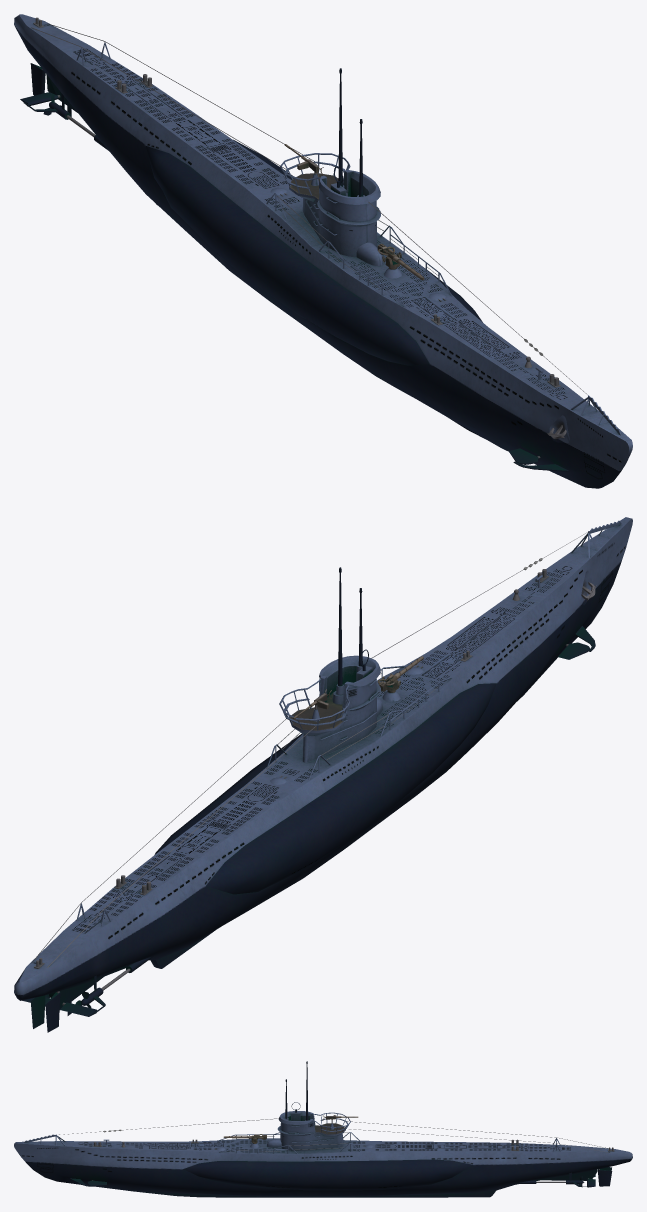
Rendered from submarino.obj.
3 renders of one model, top to bottom at view 1: azimuth 30°, elevation 25°; view 2: azimuth 150°, elevation 25°; view 3: azimuth 270°, elevation 25°, orthographic. The views are drawn at different scales.
Visible parts, largest first — view 1: U_boat; view 2: U_boat; view 3: U_boat.
Part boxes in pixels (x1,y1,x2,y2): U_boat: [14, 14, 632, 488]; U_boat: [14, 517, 632, 1032]; U_boat: [14, 1061, 632, 1197].
Size of the model in its own units: 241 by 535 by 2215.
1 material, 1 textured.
